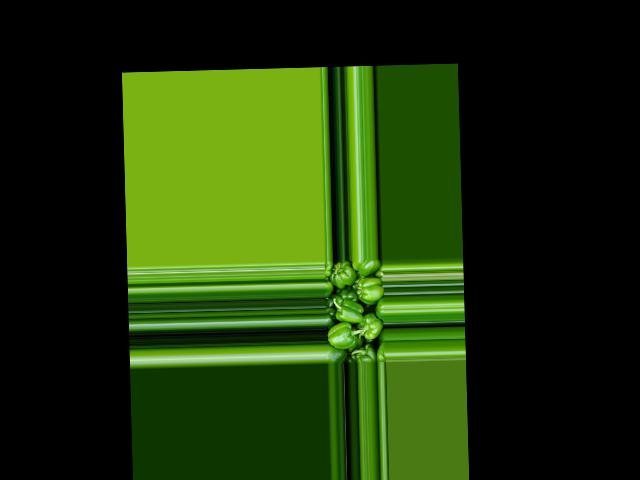bell_pepper: (326, 340, 346, 364)
